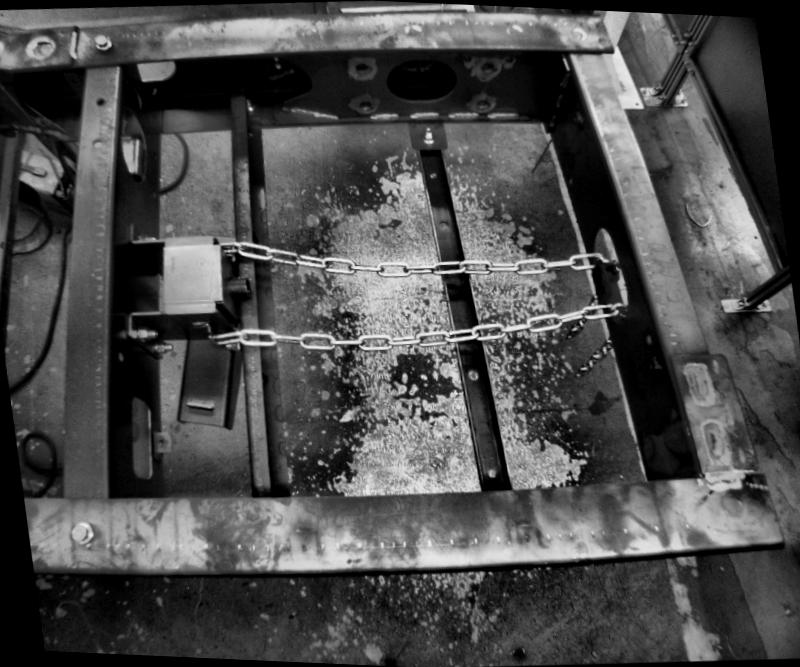bolt: (87, 26, 116, 54), (134, 323, 158, 342), (647, 353, 667, 374), (151, 337, 173, 353), (239, 93, 259, 110), (420, 120, 434, 142), (136, 228, 155, 243), (574, 110, 586, 126)
bracket: (588, 251, 615, 301), (148, 426, 174, 460)
hole: (380, 51, 462, 105), (120, 385, 157, 485), (115, 105, 149, 190), (350, 56, 371, 73), (358, 96, 374, 111), (479, 60, 496, 74), (465, 365, 480, 380), (474, 94, 490, 107), (436, 216, 449, 230), (114, 346, 126, 361), (486, 466, 499, 479), (88, 136, 101, 148), (93, 92, 105, 104), (644, 331, 656, 343), (428, 169, 438, 178), (156, 436, 166, 444)
welding: (543, 108, 559, 125), (558, 67, 572, 86), (550, 92, 566, 106)
